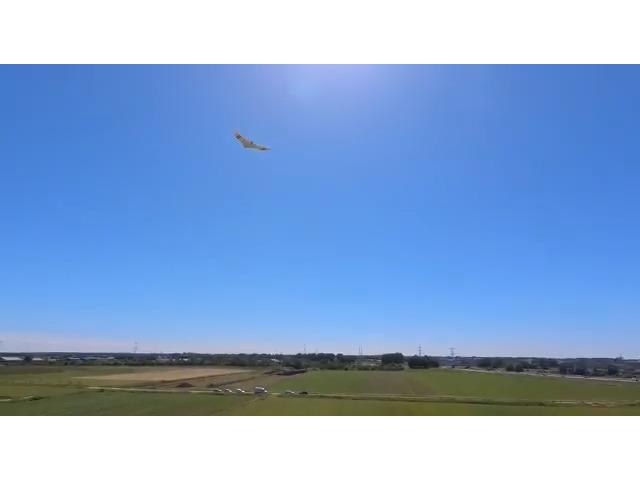Anti-Drone: (220, 124, 282, 160)
